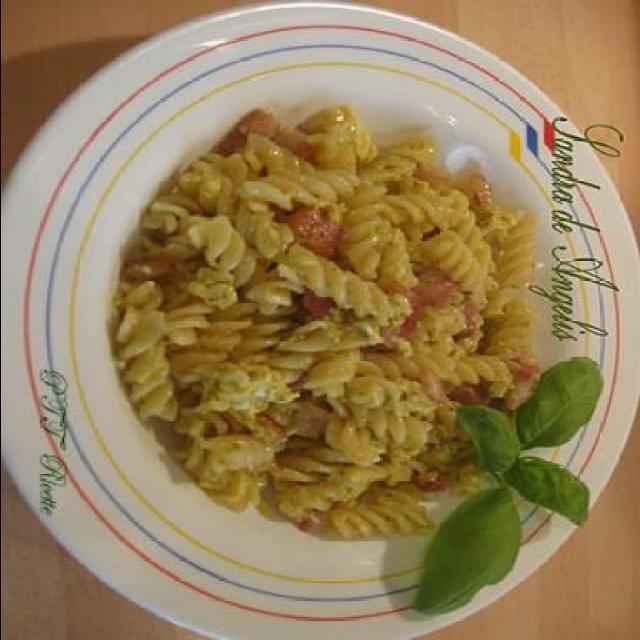Pasta with carbonara sauce: (130, 71, 587, 554)
